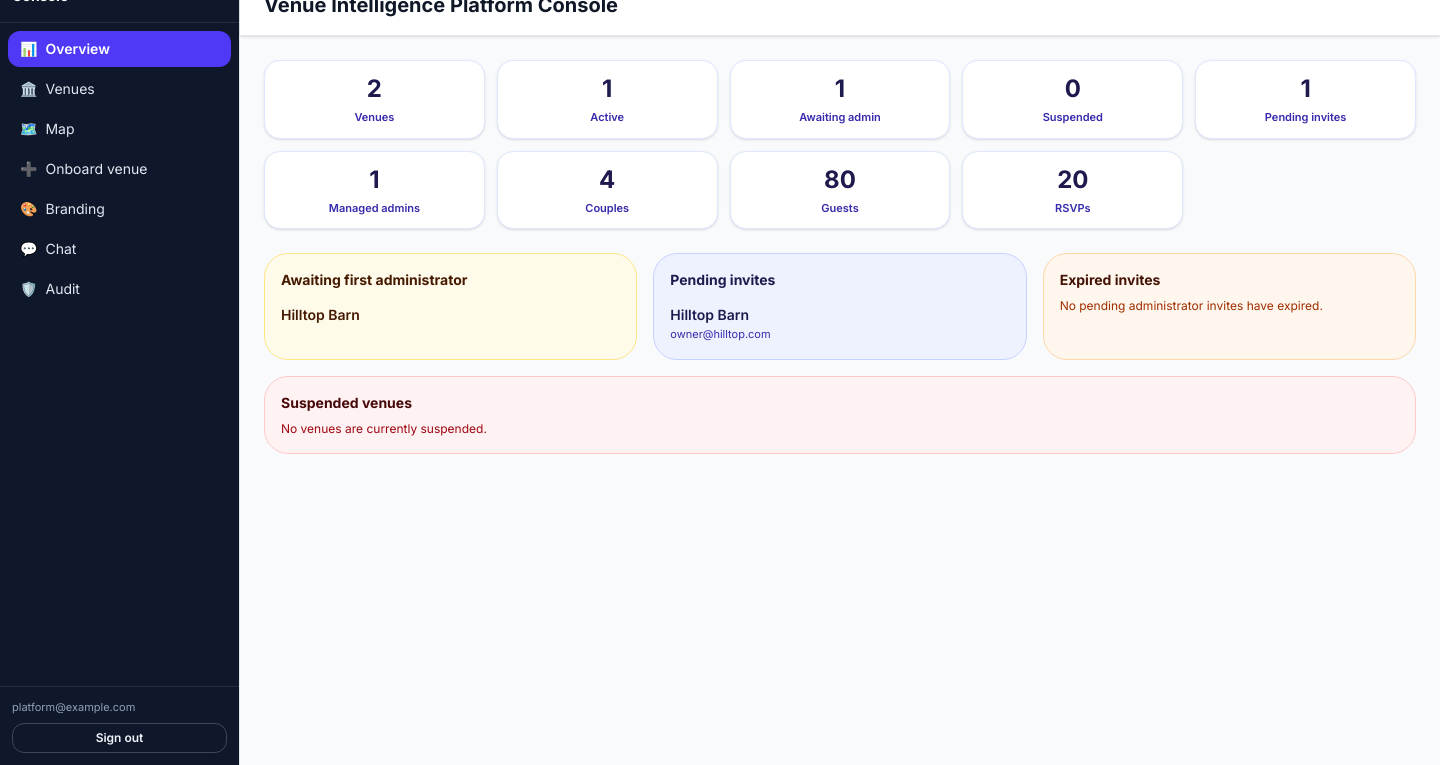
it: PlatformAdminPortal console › filters the venue directory by name and opens a detail/edit view
The image size is (1440, 765).
Click the button "🏛️ Venues". click: point(120, 89)
box: [8,71,231,107]
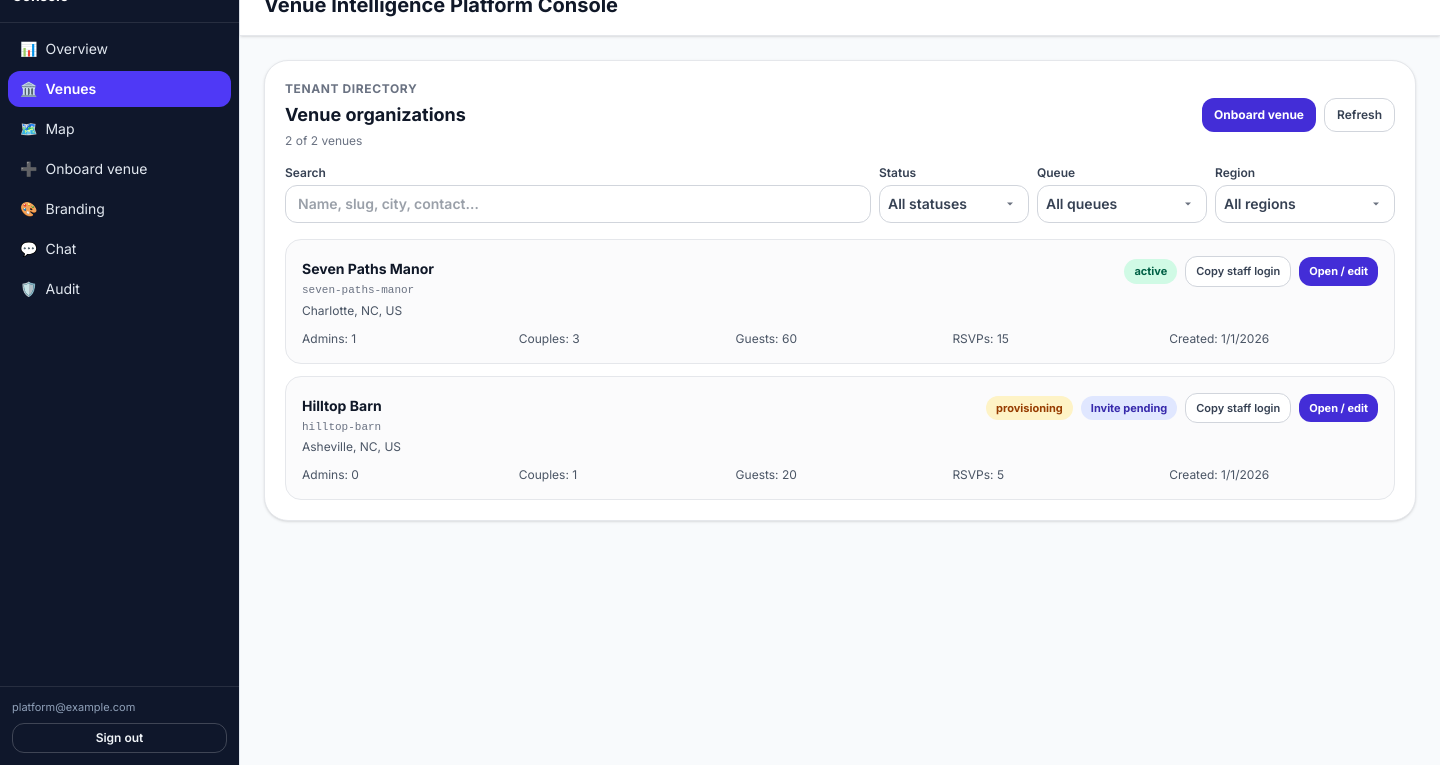
expect the button "Hilltop Barn" is shown: met, box [302,396,382,416]
expect the button "Seven Paths Manor" is shown: met, box [302,259,434,279]
Type "hilltop" into the field labelled "Search". click: point(578, 204)
box: [285,185,871,223]
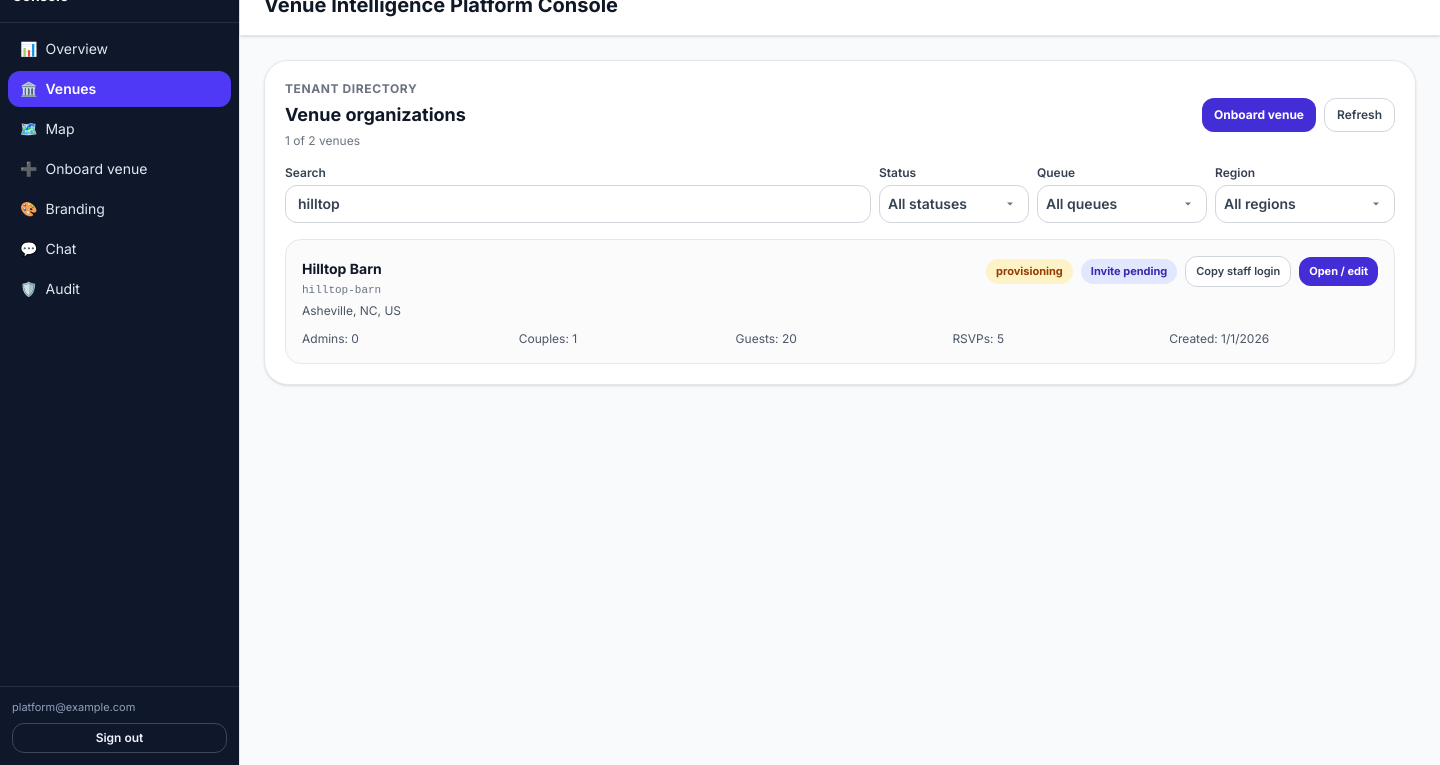
expect the button "Hilltop Barn" is shown: met, box [302,259,382,279]
expect the button "Seven Paths Manor" is gone: met
Click the button "Open / edit". click: point(1339, 271)
box: [1299,257,1378,286]
(page scrolled)
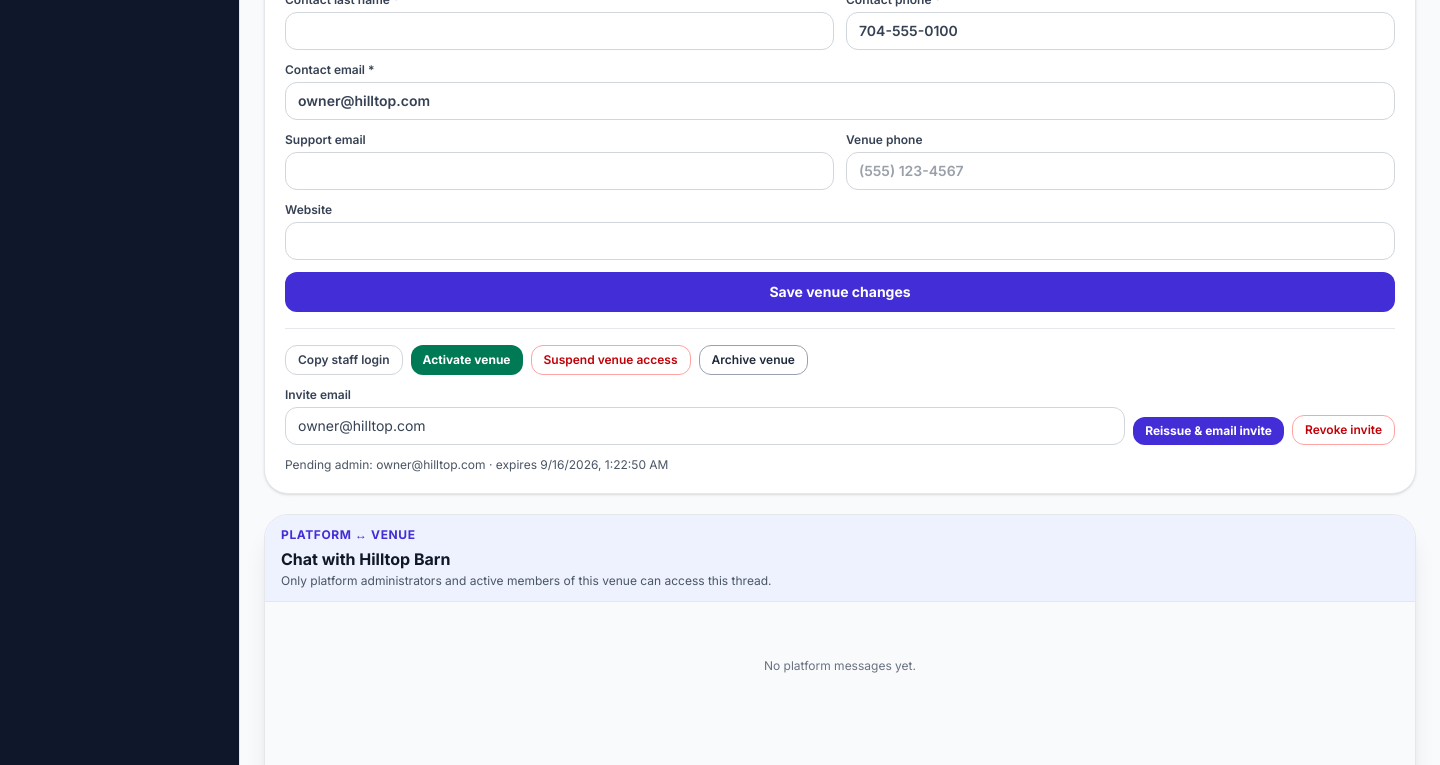
expect the field labelled "Invite email" holds "owner@hilltop.com": met, box [285,407,1125,445]
expect the button "Save venue changes" is shown: met, box [285,272,1395,312]
expect the button "Activate venue" is shown: met, box [411,345,522,375]
